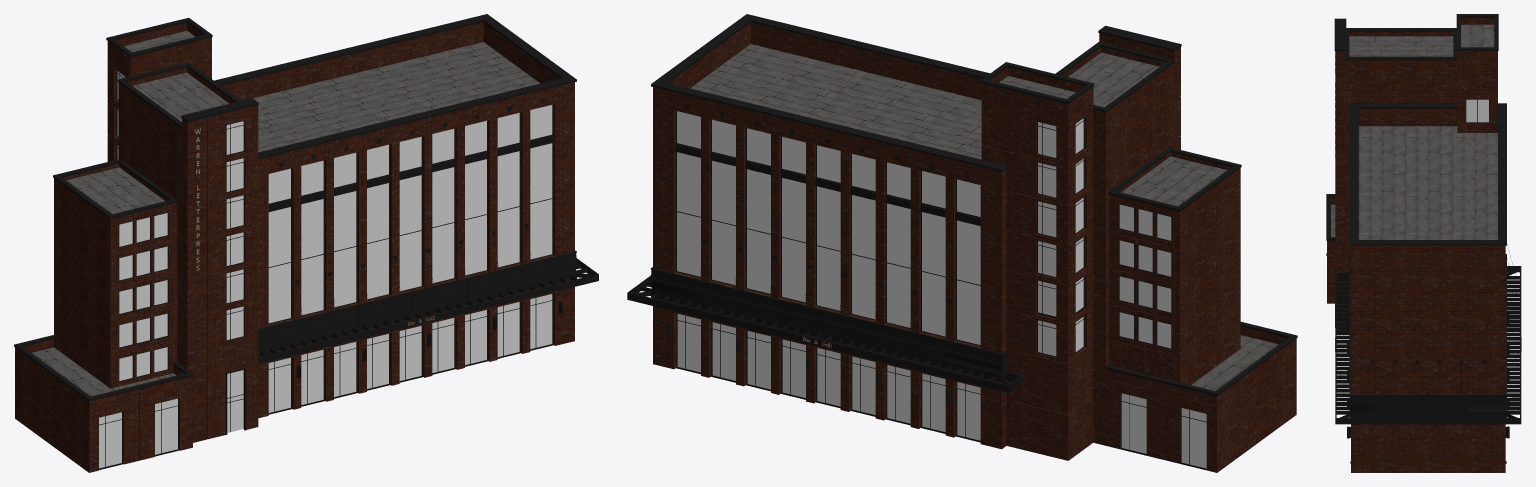
The model's file is Building_10.fbx.
The picture shows the model from 3 angles, left to right: view 1: azimuth 30°, elevation 25°; view 2: azimuth 150°, elevation 25°; view 3: azimuth 270°, elevation 25°; orthographic projection. The views are drawn at different scales.
Parts seen in each view (by area): view 1: Building_10_LOD0; view 2: Building_10_LOD0; view 3: Building_10_LOD0.
Part boxes in pixels (<box>): Building_10_LOD0: <box>14,14,598,472</box>; Building_10_LOD0: <box>627,14,1297,472</box>; Building_10_LOD0: <box>1326,14,1521,472</box>.
Size of what is drawn, in the model's own units: 4114 by 2564 by 1541.
